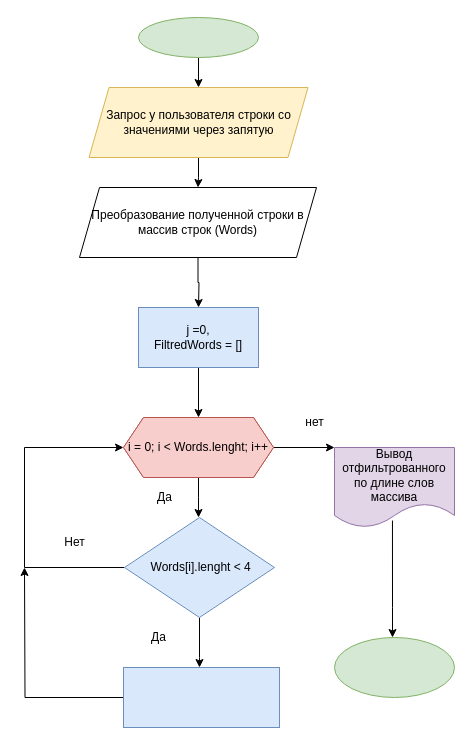
Image size: 472x745. Some labels were removed from this diagram. The shapes that lost their labels are listed below. From the top down, each one's centre as x and y in pixels, then its label:
At point 198,37: "Начало".
At point 394,667: "Завершение".
At point 201,697: "FiltredWords[j] = Words[i]; j++".
